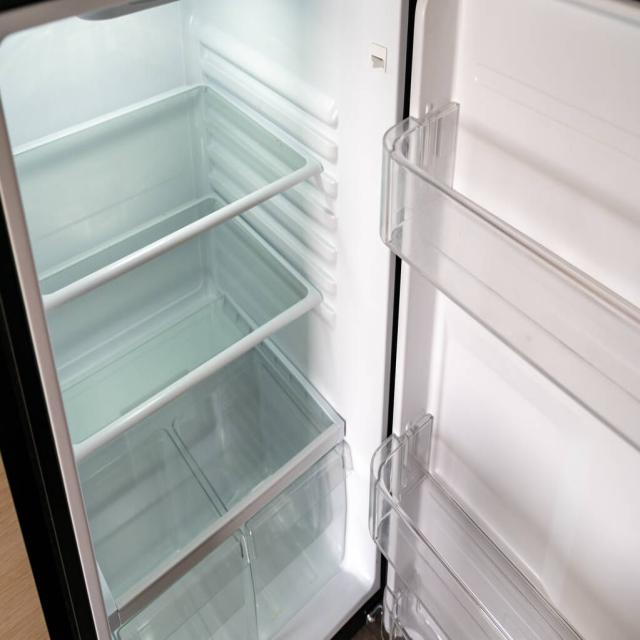fridge-space: (140, 65, 299, 199), (514, 220, 640, 370), (10, 113, 140, 246), (80, 461, 198, 586), (49, 299, 158, 427), (188, 388, 331, 470), (161, 248, 301, 323), (407, 468, 473, 598), (427, 164, 492, 289), (484, 547, 553, 640)
